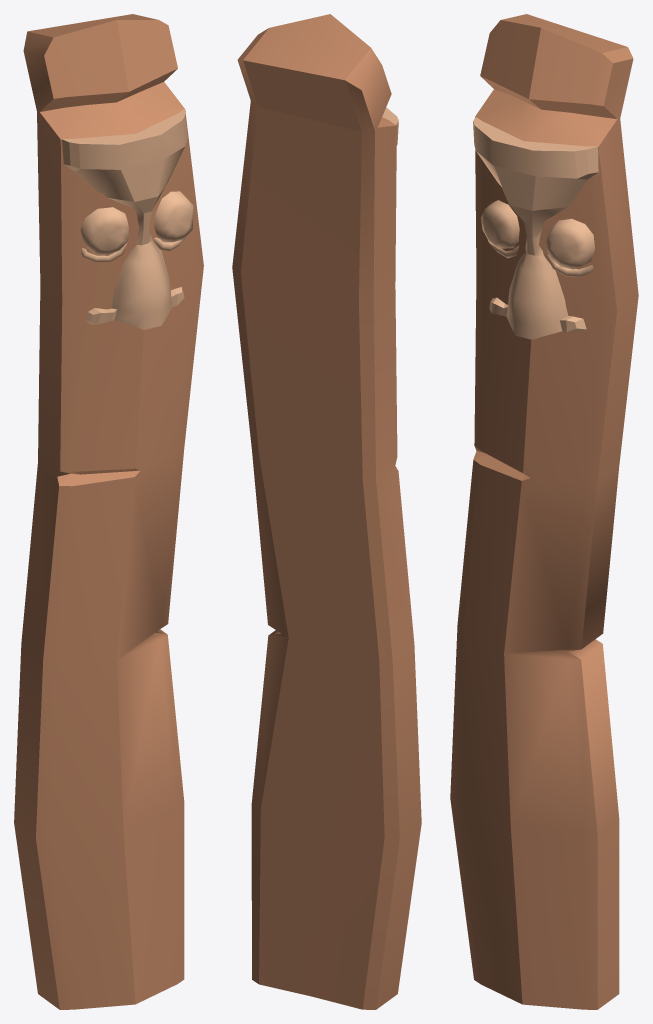
The model's file is jangseung02.fbx.
The picture shows the model from 3 angles, left to right: view 1: azimuth 30°, elevation 25°; view 2: azimuth 150°, elevation 25°; view 3: azimuth 330°, elevation 25°; orthographic projection.
Parts seen in each view (by area): view 1: jangseung02; view 2: jangseung02; view 3: jangseung02.
Part boxes in pixels (box(x1,y1,x2,y2)): jangseung02: box(14, 14, 203, 1009); jangseung02: box(232, 14, 421, 1009); jangseung02: box(450, 14, 638, 1009).
Size of the model in its own units: 9.27 by 6.16 by 51.16.
